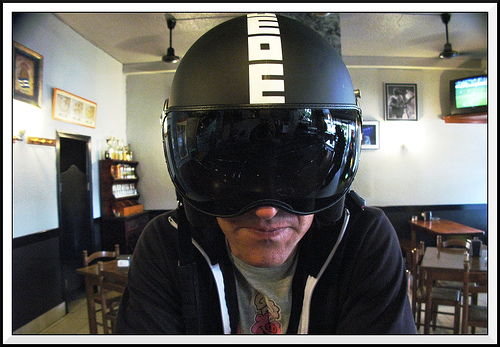helmet: (160, 20, 370, 218)
